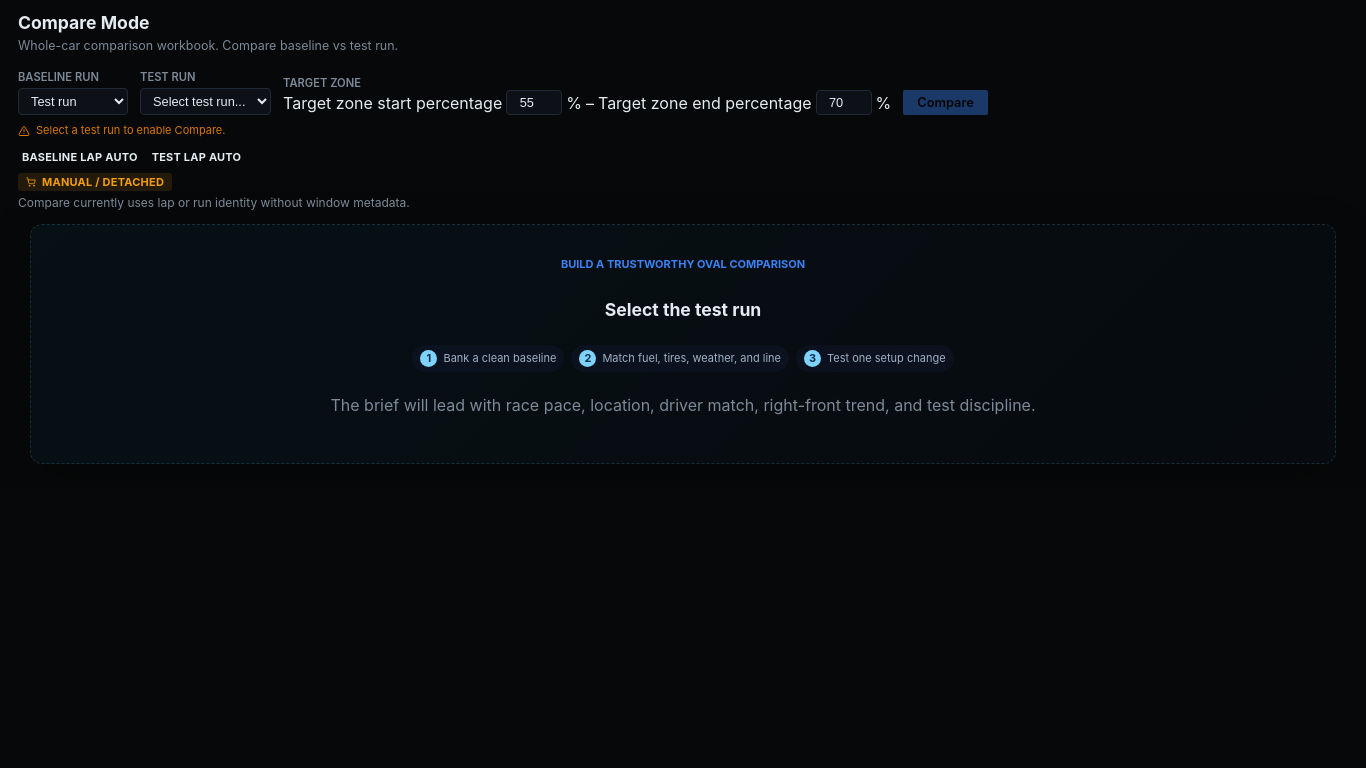
CompareTab interaction boundaries › fails closed when the exact test setup does not match the active case
The image size is (1366, 768).
Select "Baseline run" in the dropdown labelled "Baseline Run" at (73, 102), box [18, 88, 128, 116]
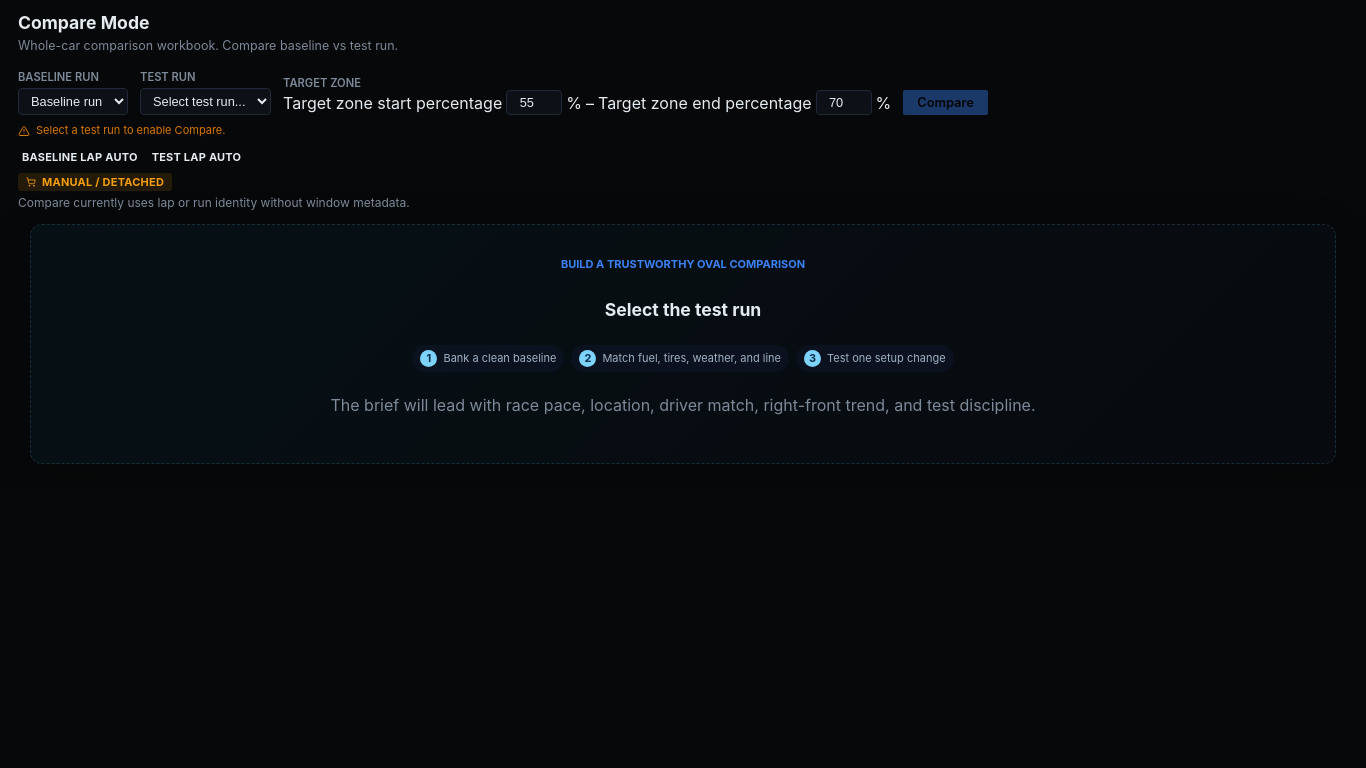
Select "Test run" in the dropdown labelled "Test Run" at (206, 102), box [140, 88, 271, 116]
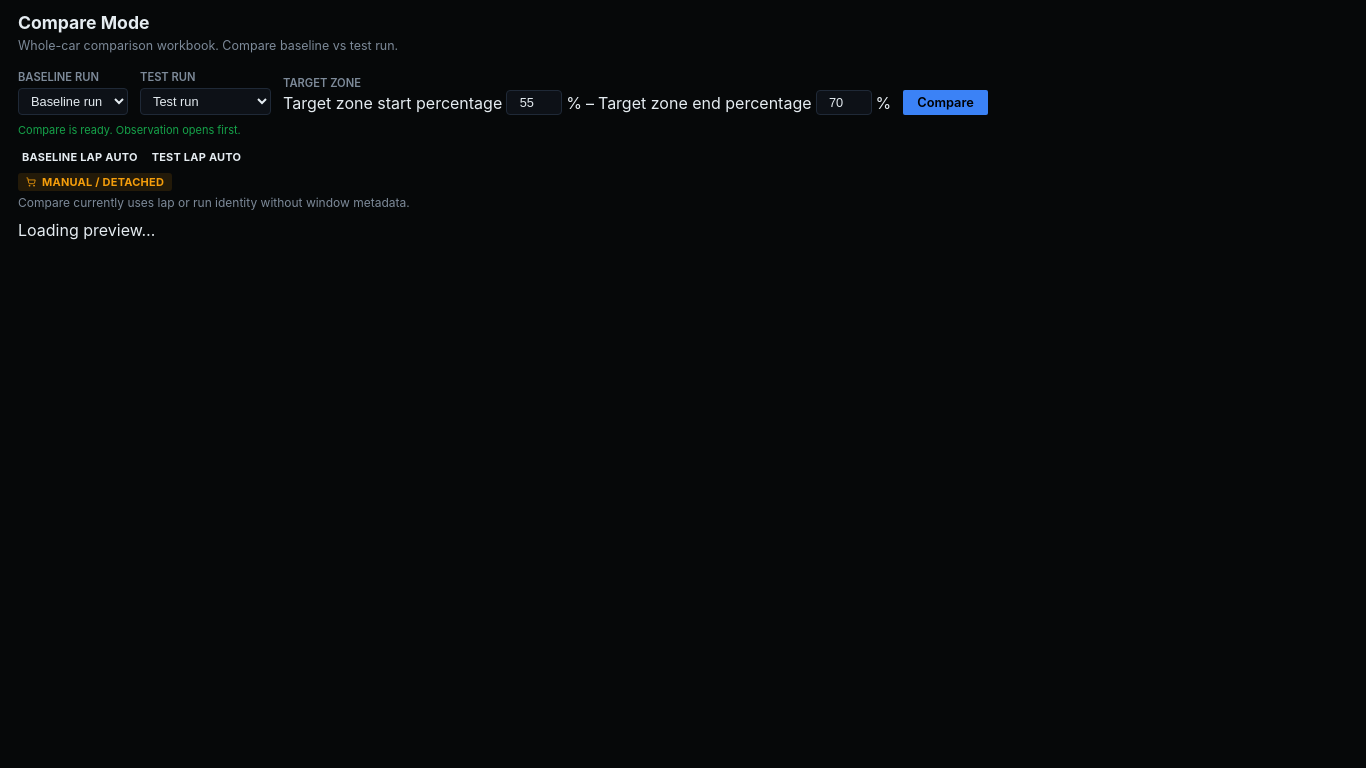
Click the button "Compare" at (946, 103), box [903, 90, 988, 116]
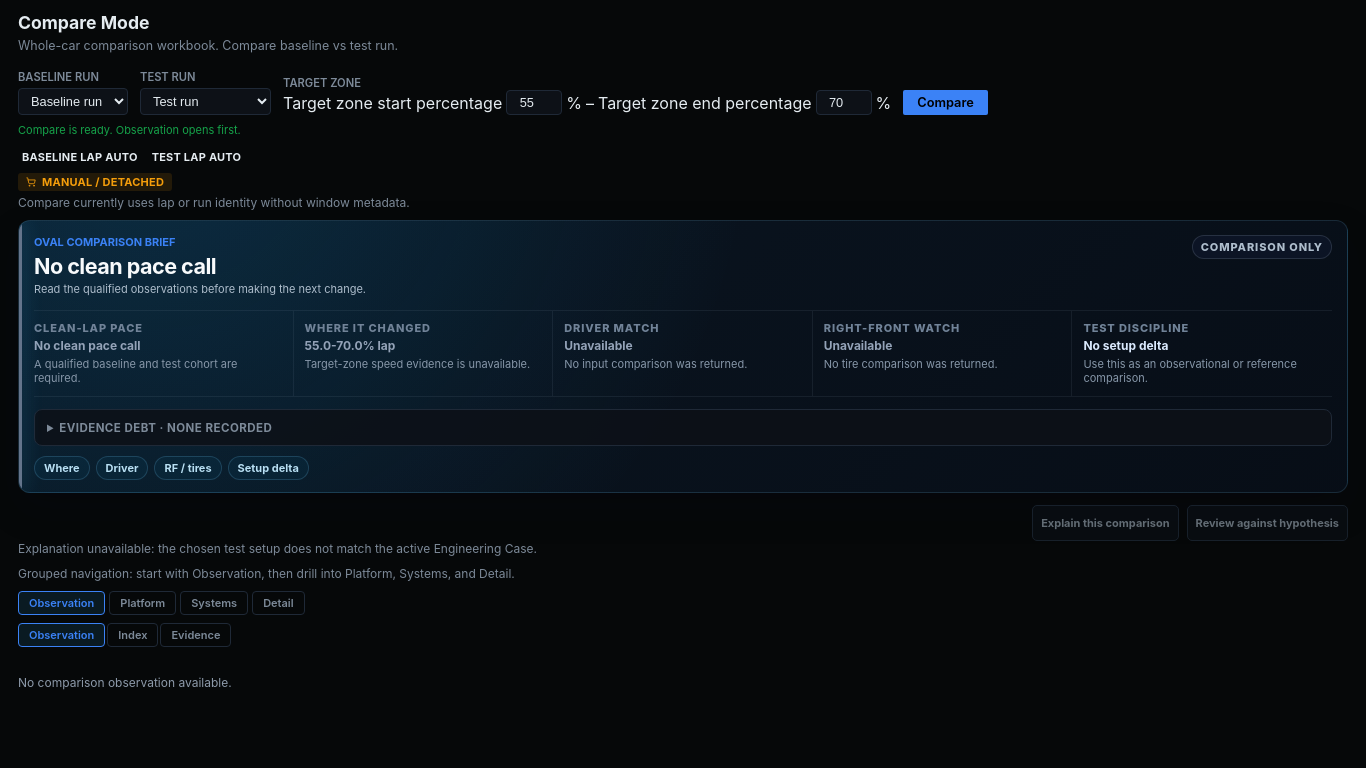
Check: the button "Explain this comparison" is disabled, box [1032, 505, 1178, 541]
Check: the text "Explanation unavailable: the chosen test setup does not match the active Engineering Case." is shown, box [18, 541, 537, 556]
